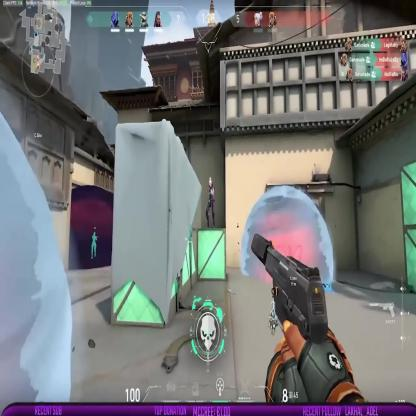enemy: (206, 180, 216, 228)
enemy_head: (209, 178, 212, 186)
